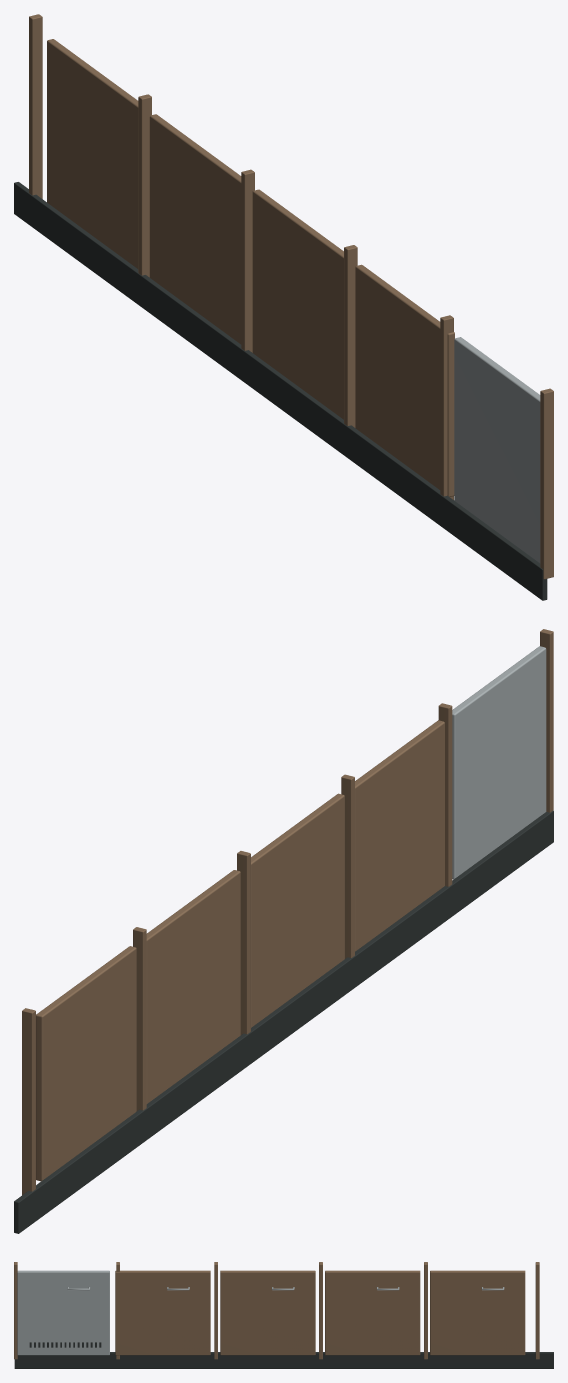
The model's file is service-joinery.glb.
3 views of the same model, one above another, from view 1: azimuth 30°, elevation 25°; view 2: azimuth 150°, elevation 25°; view 3: azimuth 270°, elevation 25° (orthographic). The views are drawn at different scales.
Visible parts, largest first — view 1: Joinery | oiled walnut, Hardware | blackened steel, Service | brushed stainless; view 2: Joinery | oiled walnut, Hardware | blackened steel, Service | brushed stainless; view 3: Joinery | oiled walnut, Service | brushed stainless, Hardware | blackened steel.
Boxes of the visible parts, x1=… form: Joinery | oiled walnut: x1=29, y1=14, x2=553, y2=579; Hardware | blackened steel: x1=14, y1=182, x2=547, y2=600; Service | brushed stainless: x1=454, y1=337, x2=540, y2=563; Joinery | oiled walnut: x1=22, y1=629, x2=553, y2=1195; Hardware | blackened steel: x1=14, y1=810, x2=553, y2=1233; Service | brushed stainless: x1=452, y1=646, x2=546, y2=879; Joinery | oiled walnut: x1=14, y1=1262, x2=539, y2=1359; Service | brushed stainless: x1=17, y1=1270, x2=504, y2=1355; Hardware | blackened steel: x1=14, y1=1342, x2=553, y2=1368.
Bounding box in the file's own units: 0.0892 × 0.859 × 3.96.
